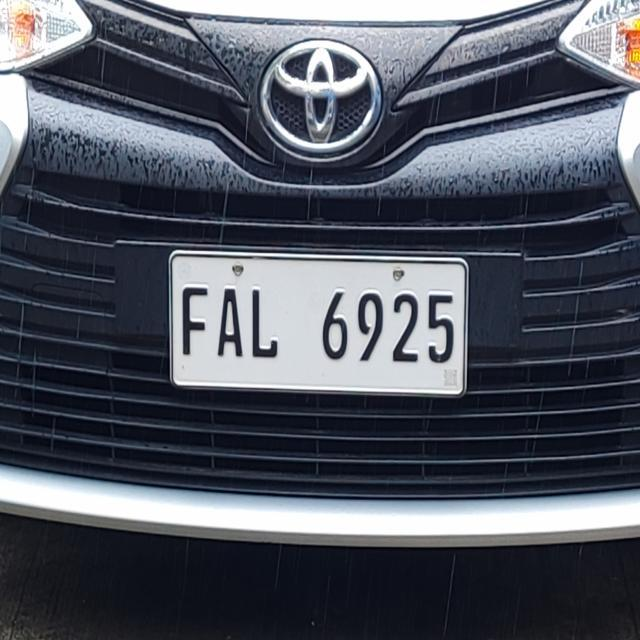LicensePlate: (158, 237, 478, 407)
